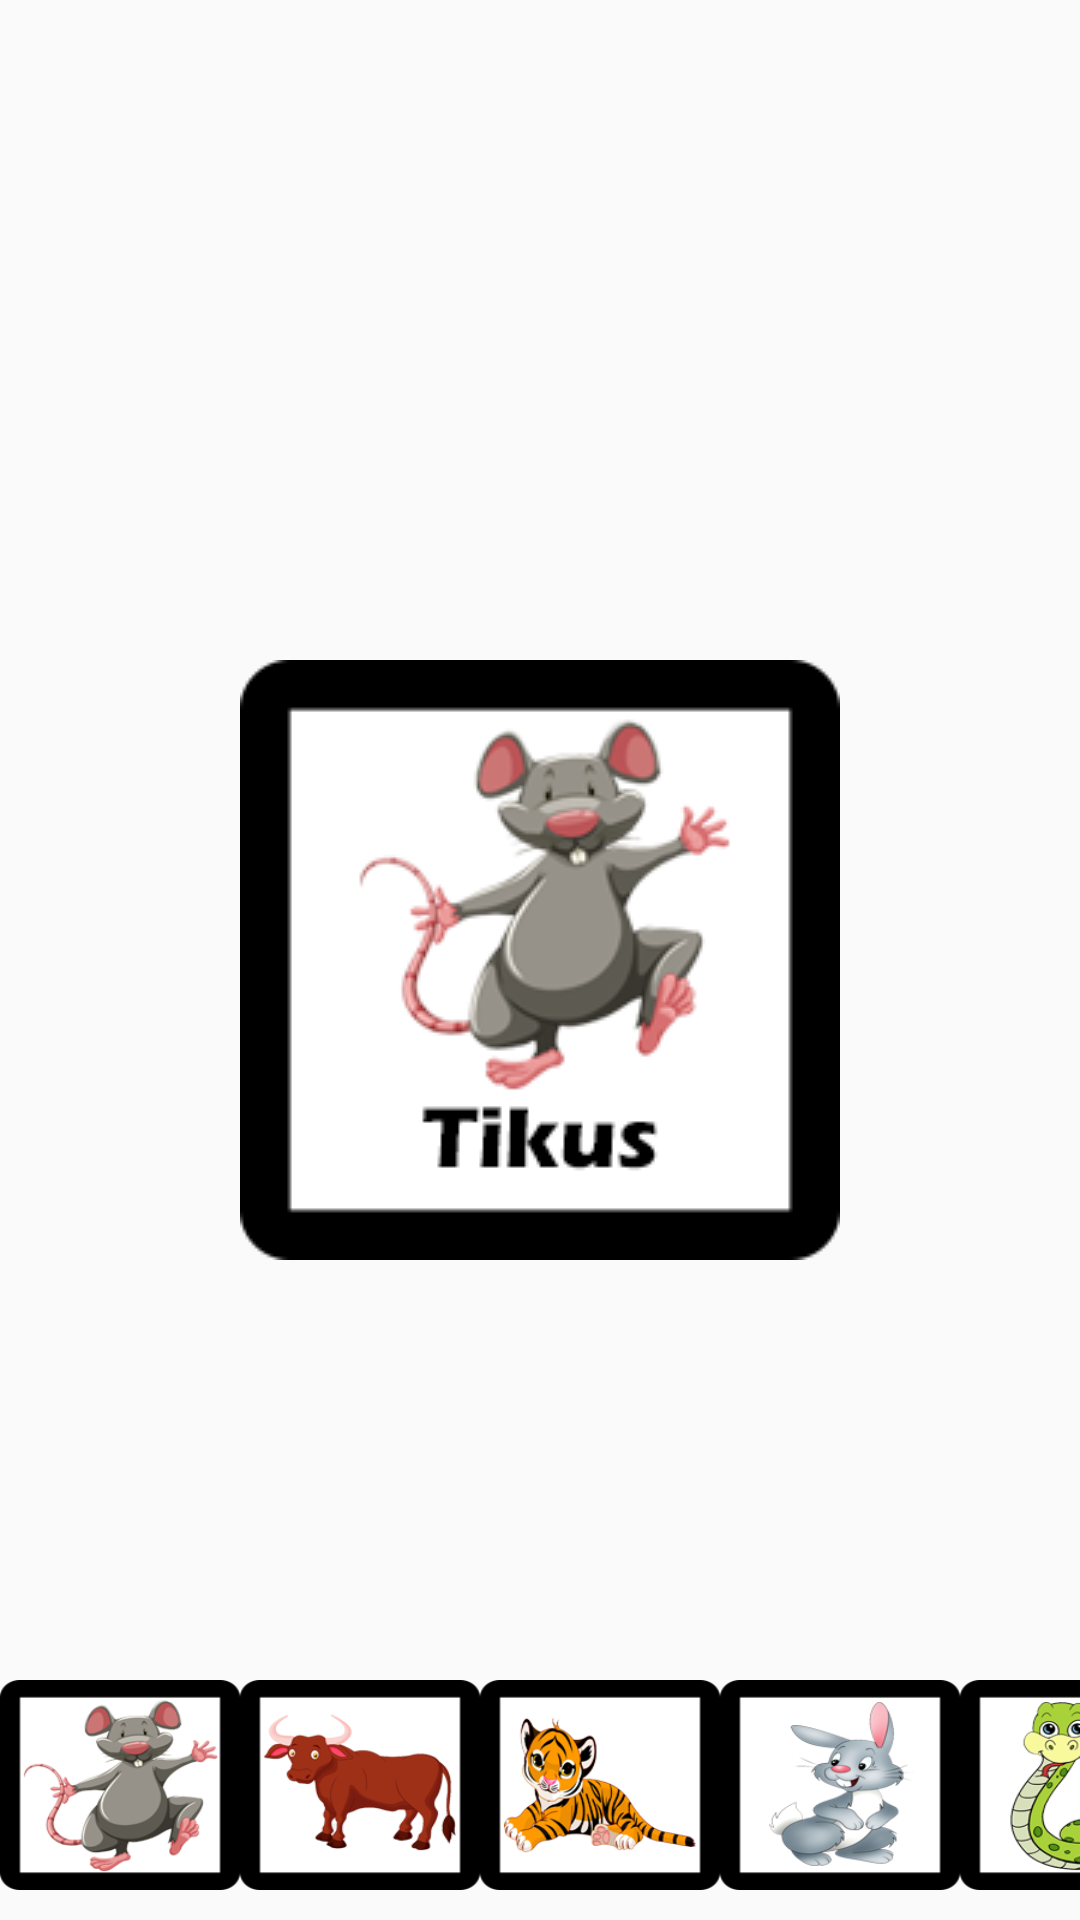

Point at icon controls on the screen. Image size 1080px×1920px, points as (x=x, y=y).
harimau: (x=600, y=1785)
kelinci: (x=840, y=1785)
sapi: (x=360, y=1785)
tikus: (x=120, y=1785)
